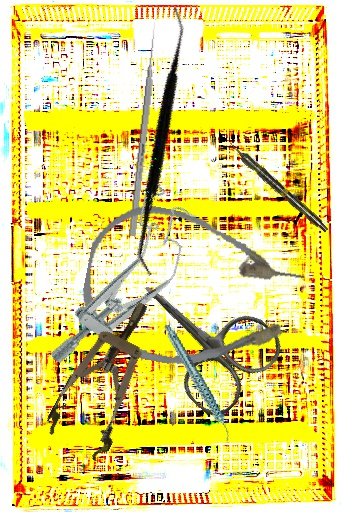Cannula: (72, 195, 312, 387)
Handpiece: (226, 139, 331, 235), (164, 316, 232, 450)
Iris Scissors: (110, 247, 290, 424)
Pusher: (128, 21, 160, 237)
Spatula Surgical: (53, 5, 272, 278)
Speculum: (37, 180, 213, 389), (40, 289, 175, 464)
